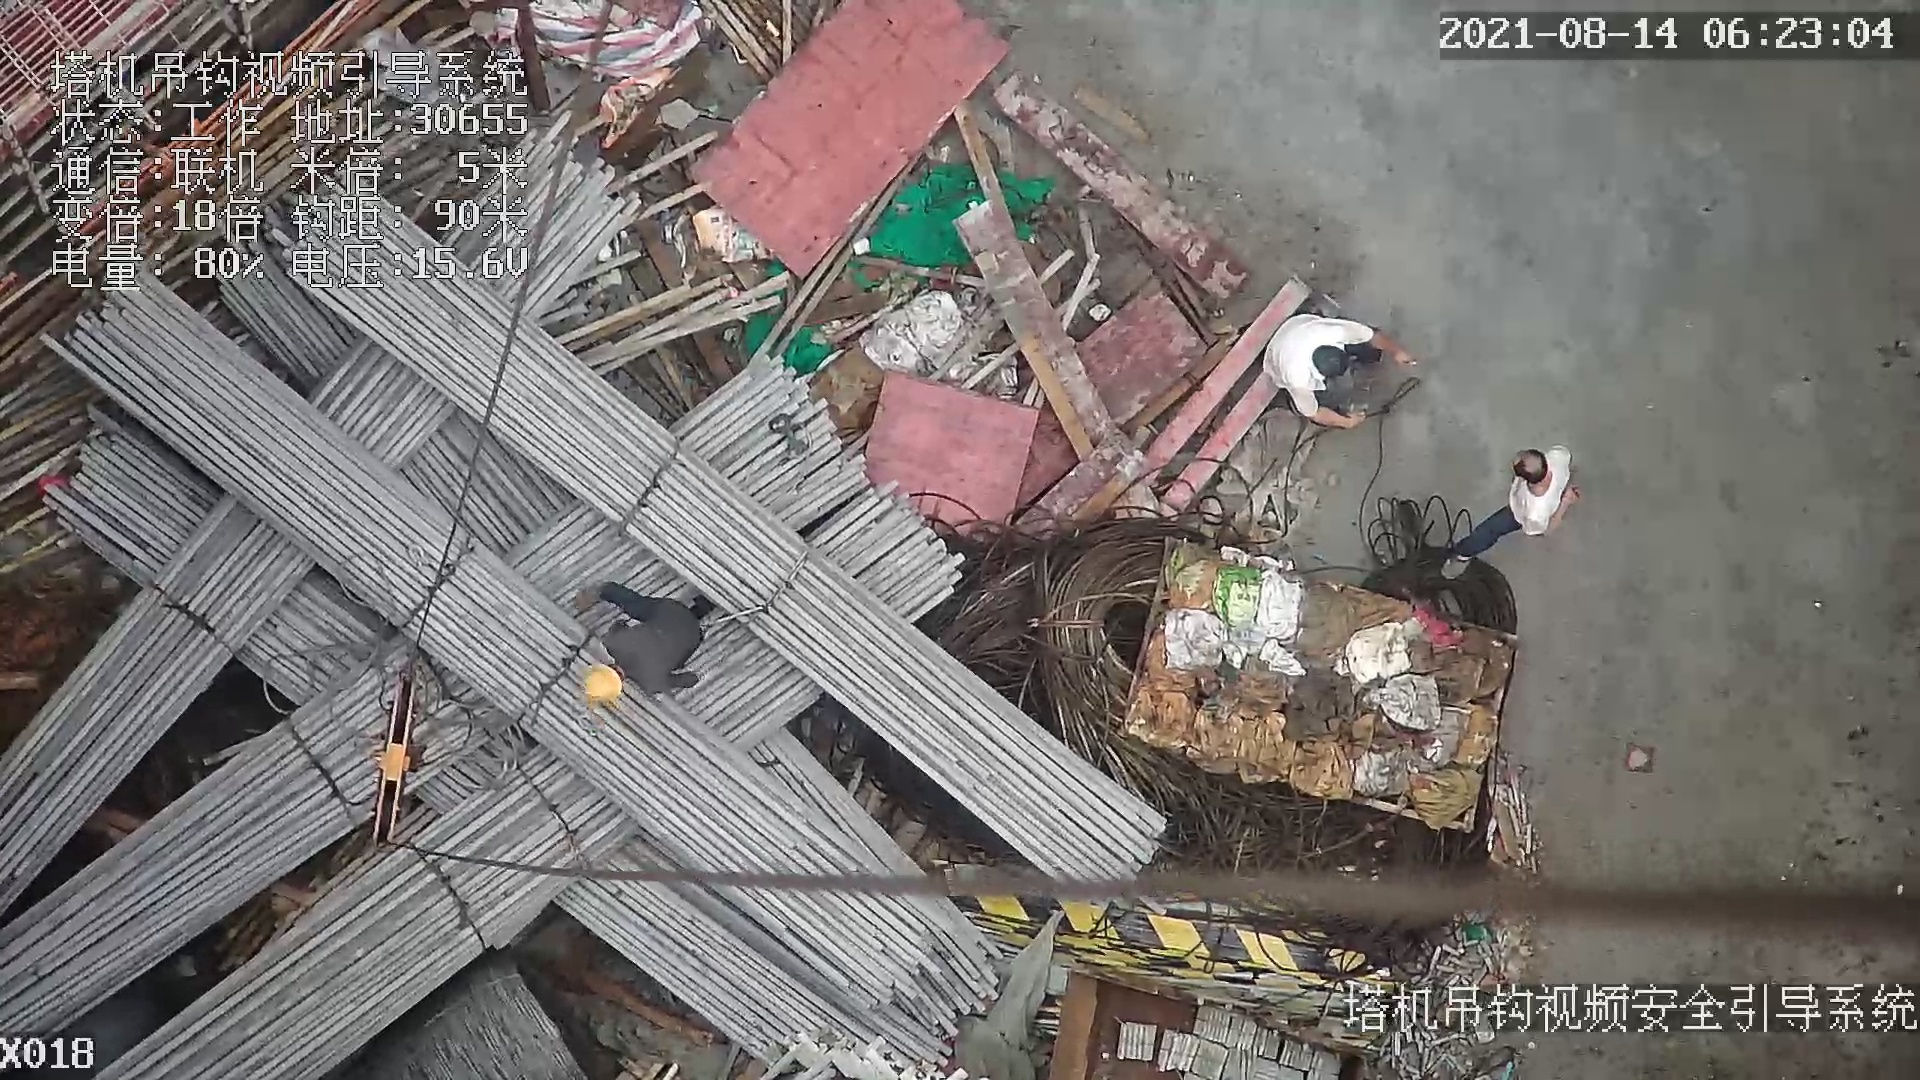board: (678, 8, 1008, 280)
helmet: (581, 665, 623, 705)
hook: (368, 663, 427, 858)
person: (1263, 310, 1423, 431), (1455, 431, 1591, 569), (582, 574, 712, 709)
